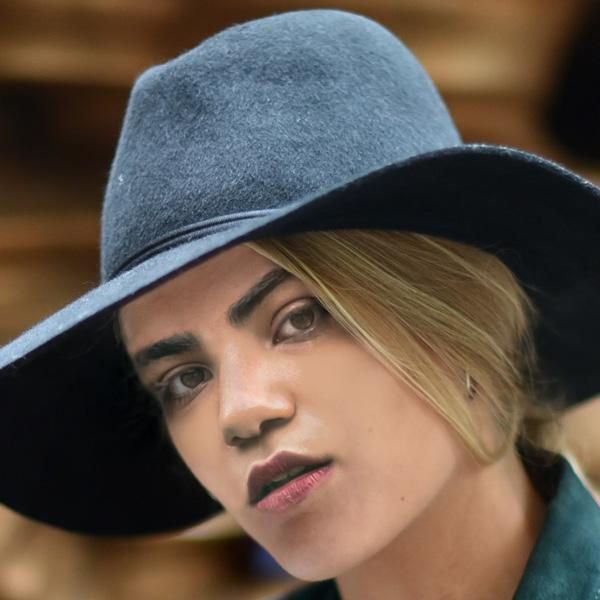Eyes: (266, 283, 337, 352), (150, 352, 220, 418)
